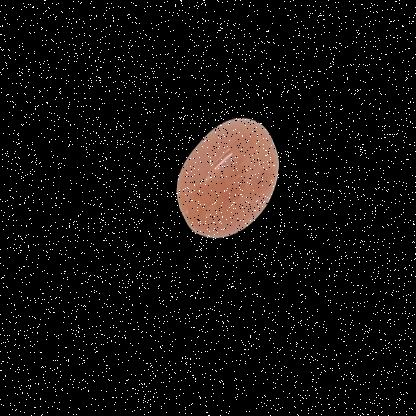opiqutan: (148, 81, 316, 270)
